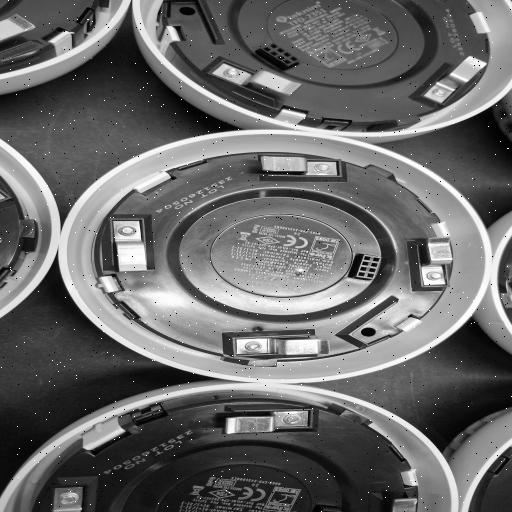konnektor: (256, 42, 304, 70), (348, 251, 383, 285)
yaysiz: (206, 60, 306, 102), (106, 214, 164, 280), (221, 327, 338, 359), (202, 404, 315, 436), (420, 53, 488, 106), (399, 228, 456, 291), (238, 152, 351, 182)
